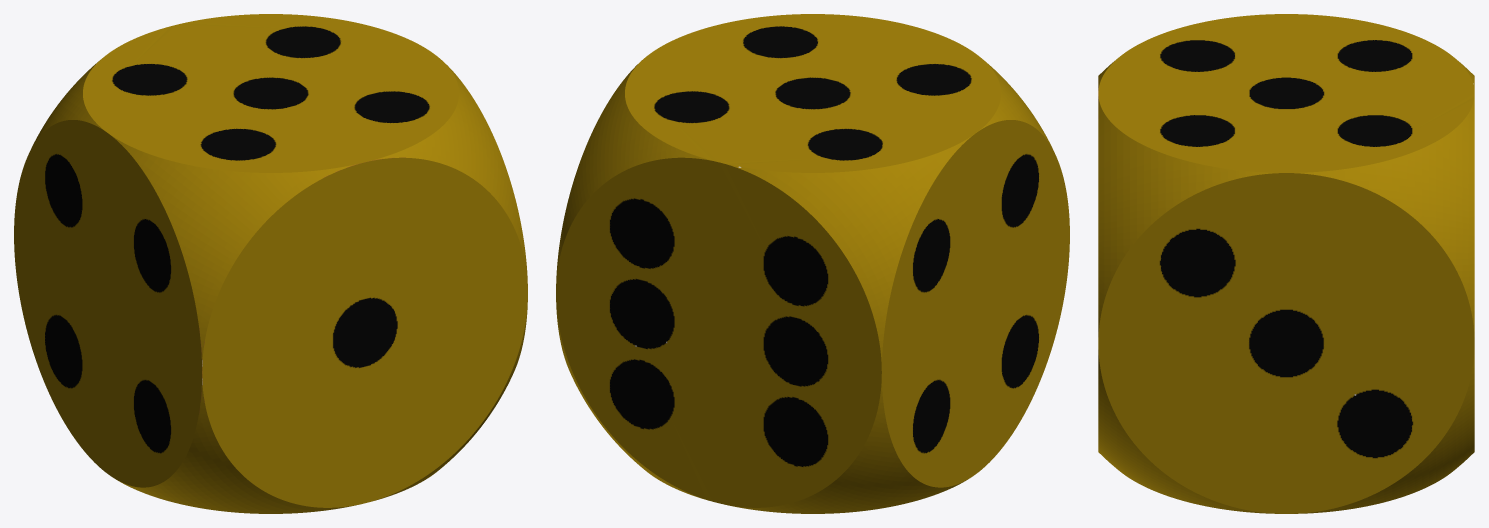
File: dice_yellow_visual.obj
The picture shows the model from 3 angles, left to right: view 1: azimuth 30°, elevation 25°; view 2: azimuth 150°, elevation 25°; view 3: azimuth 270°, elevation 25°; orthographic projection.
Visible parts, largest first — view 1: dice_yellow; view 2: dice_yellow; view 3: dice_yellow.
Part boxes in pixels (x1,y1,x2,y2): dice_yellow: [14, 14, 527, 513]; dice_yellow: [556, 14, 1069, 513]; dice_yellow: [1098, 14, 1474, 513].
Bounding box in the file's own units: 0.03 × 0.03 × 0.03.
1 material, 1 textured.
